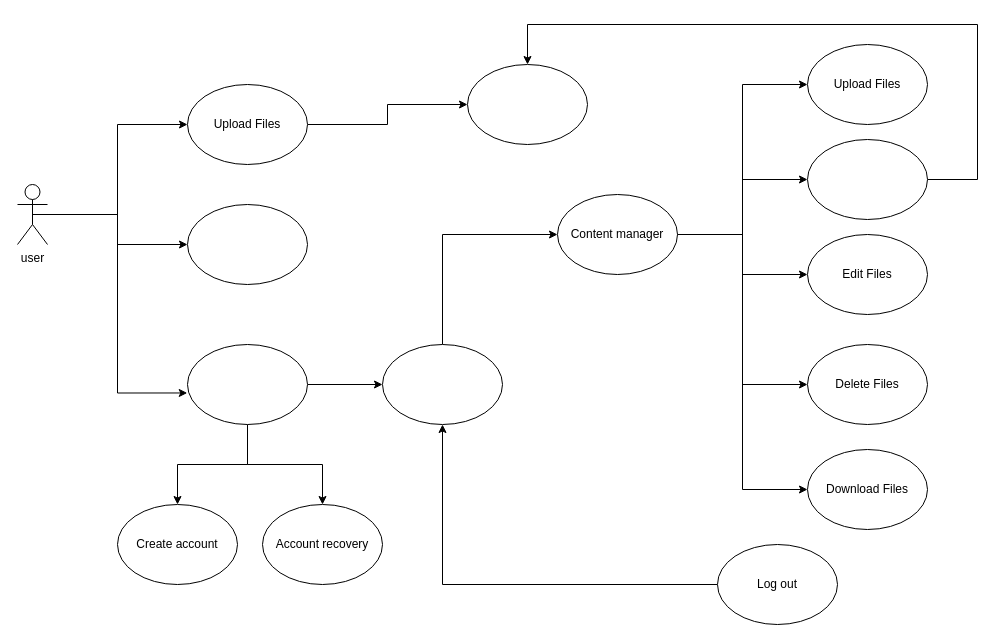
Image size: 1003x642. Some labels were removed from this diagram. Each missing label, with the centre of its shape:
"About" belongs at point 247,244.
"Autentificare" belongs at point 442,384.
"Generate LINK" belongs at point 527,104.
"Login" belongs at point 247,384.
"Share files" belongs at point 867,179.
